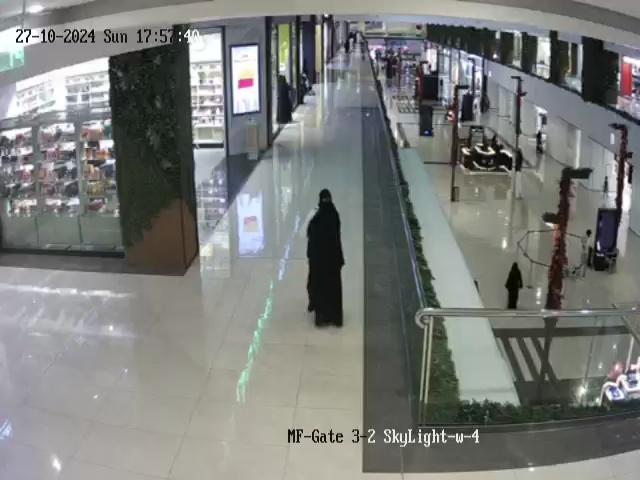female: (305, 189, 345, 329), (504, 262, 524, 310), (534, 127, 544, 160)
male: (578, 226, 594, 278)
